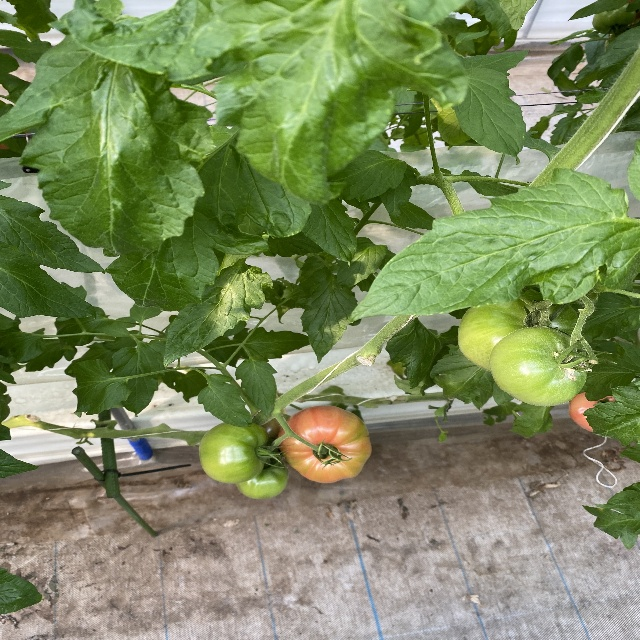b_green: (458, 290, 585, 371), (489, 326, 590, 407), (200, 421, 268, 484), (235, 456, 288, 499)
b_half_ripened: (279, 405, 372, 483)
